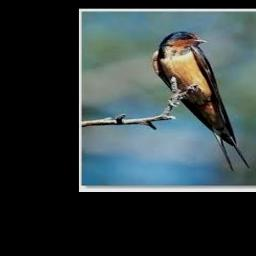Swallow: (152, 31, 250, 171)
